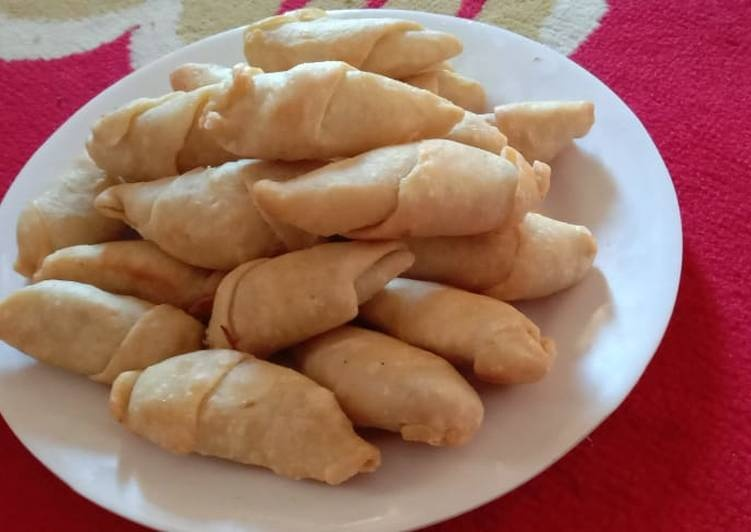pisang_molen: (107, 349, 383, 480), (204, 242, 420, 365), (244, 137, 528, 226), (192, 60, 465, 150)
